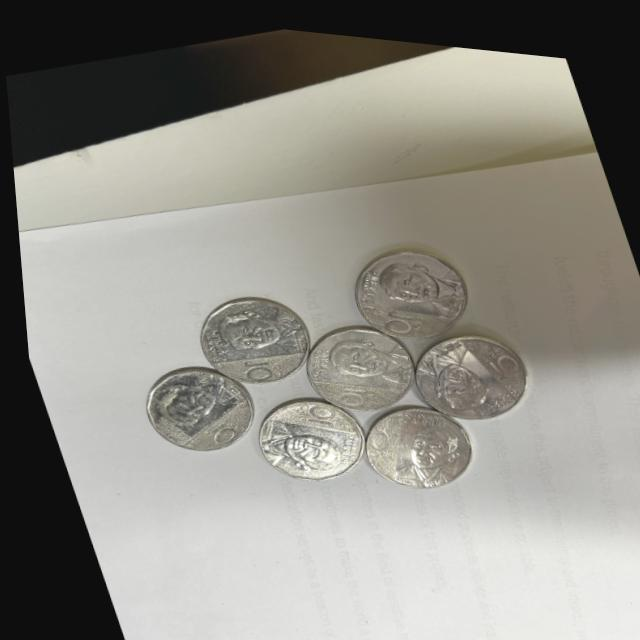10_New_Front: (193, 393, 248, 440), (349, 410, 401, 456), (321, 366, 379, 406), (234, 343, 285, 381), (381, 292, 427, 328), (287, 390, 330, 424)
